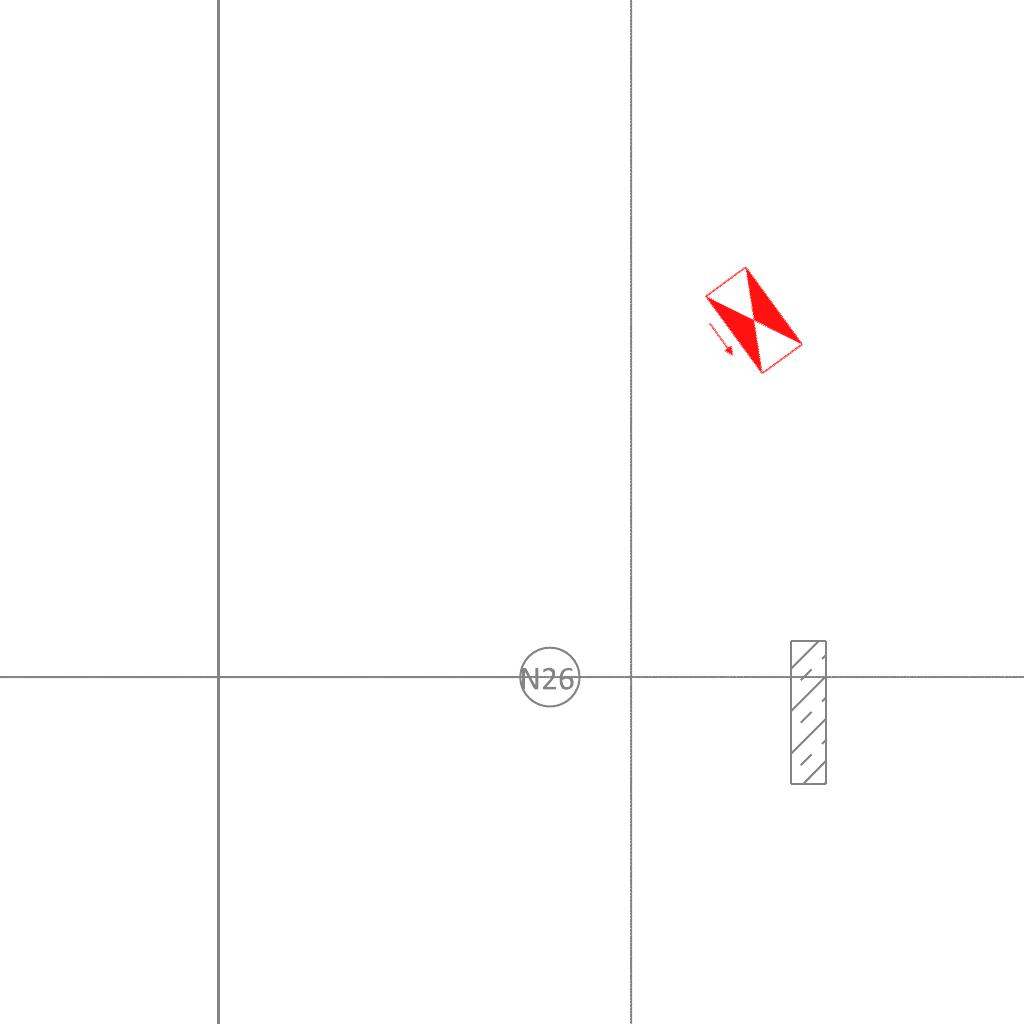Fluchtwegpiktogramm: (687, 261, 808, 389)
